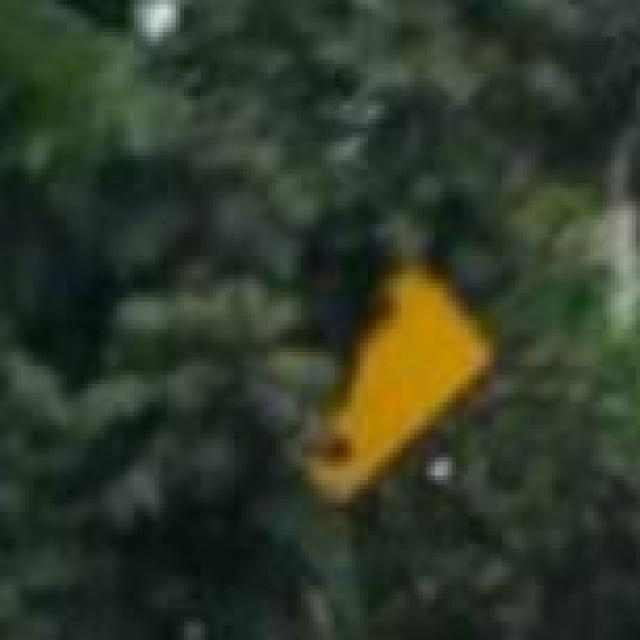traffic sign: (318, 261, 502, 517)
